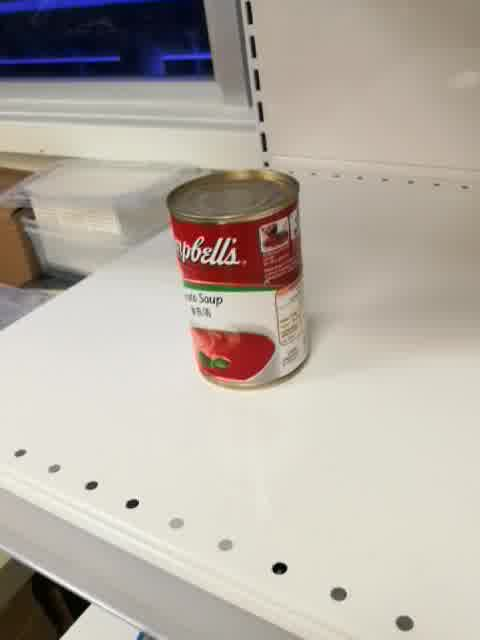tomatosoup: (164, 167, 311, 393)
